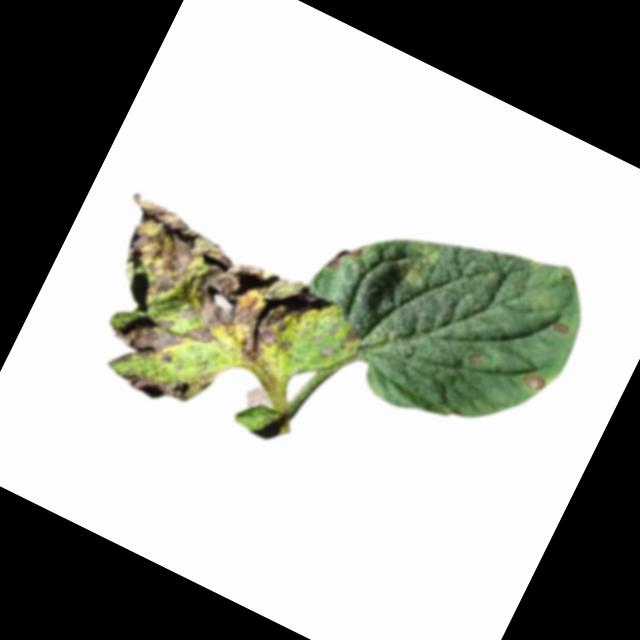Early_blight: (66, 190, 339, 432), (114, 336, 217, 424), (326, 232, 368, 278), (520, 367, 552, 396), (339, 323, 363, 351), (552, 319, 572, 336)
